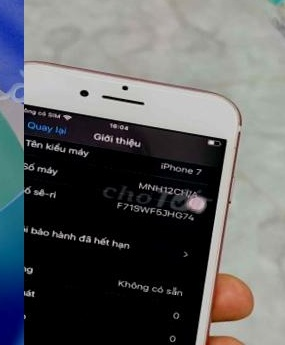scratch: (24, 58, 35, 80)
